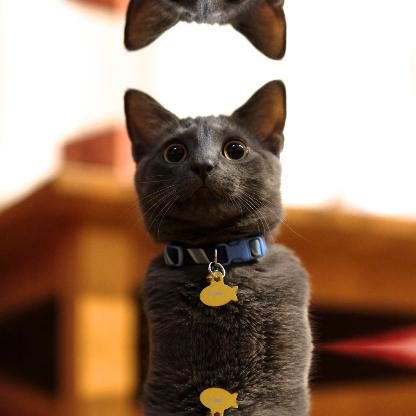Cat: (107, 78, 313, 346), (107, 346, 314, 415), (107, 0, 314, 61)
